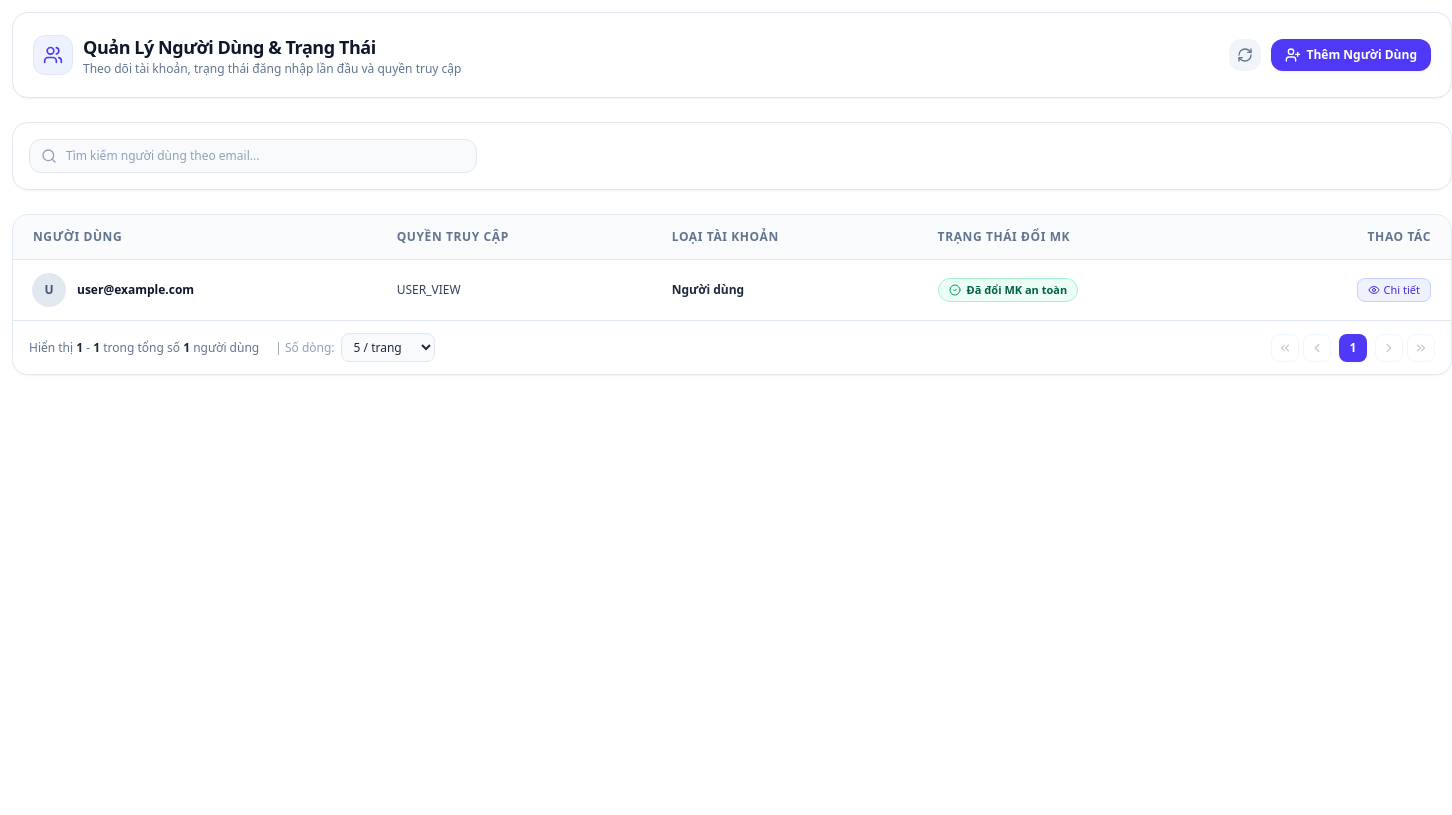
Test case: renders readonly without USER_UPDATE and hides deactivate
Step 1. Click the button with aria-label "Xem chi tiết user@example.com" → [1394, 290], box [1357,278,1431,302]
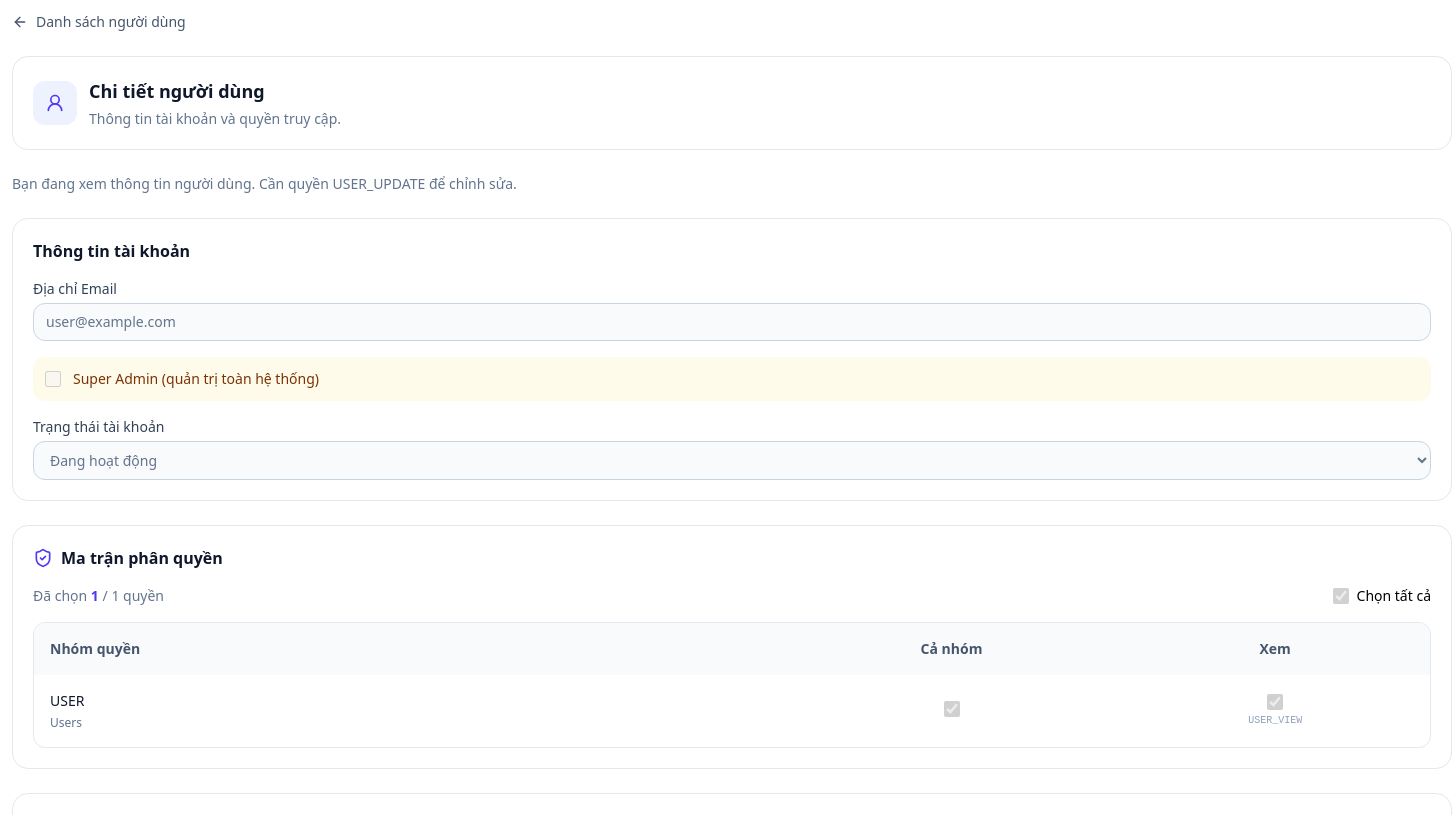
Result: the checkbox named "USER: Xem (USER_VIEW)" is disabled at [1267,694,1283,710]
Result: the element labelled "Địa chỉ Email" is disabled at [12,218,1451,501]
Step 2. Click the button "Danh sách người dùng" → [99, 22], box [12,12,186,32]
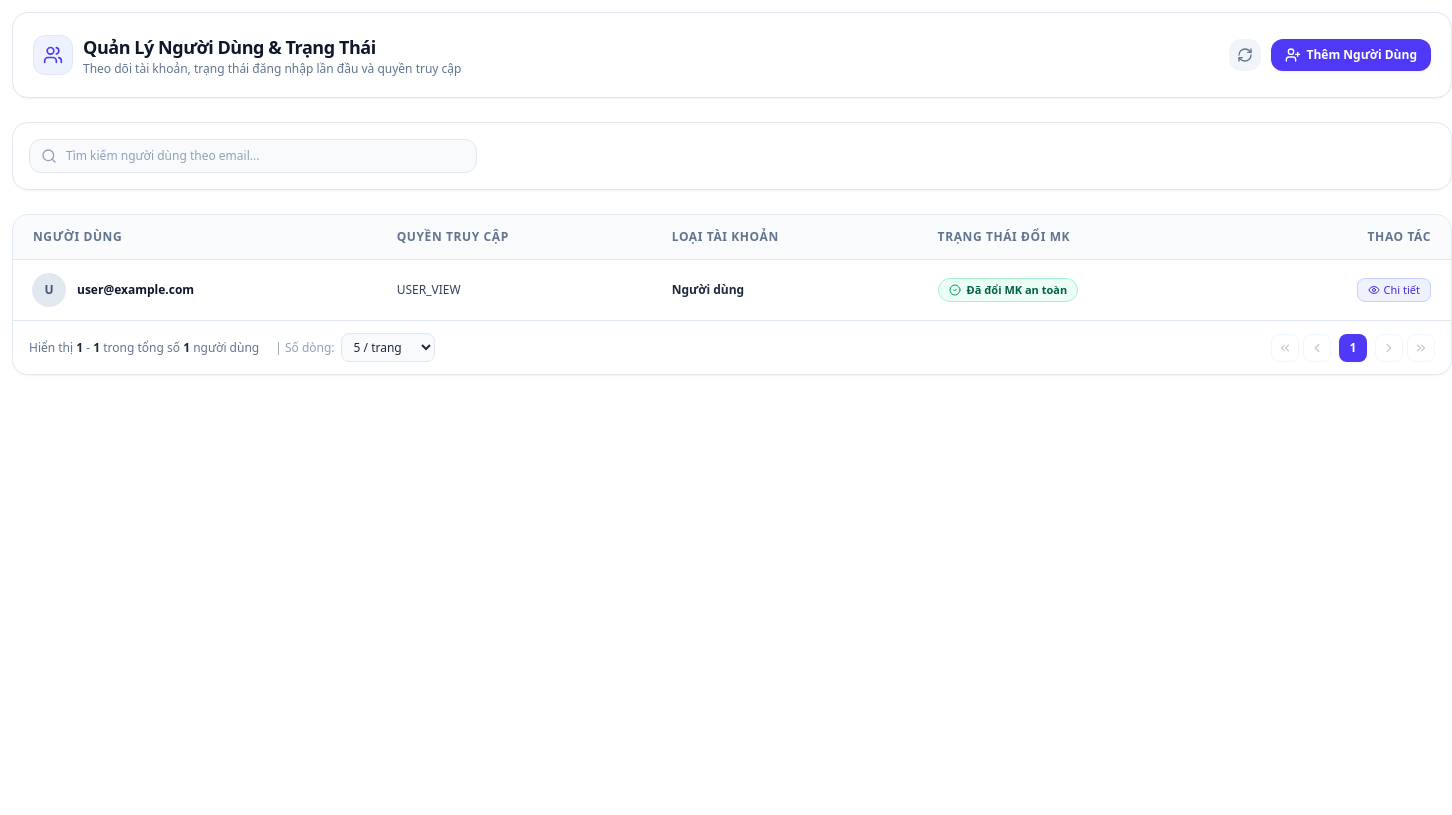
Result: the button with aria-label "Xem chi tiết user@example.com" is shown at [1357,278,1431,302]
